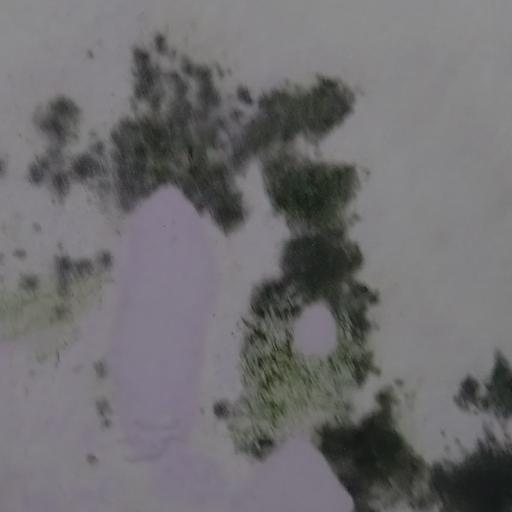algae: (45, 34, 512, 511)
